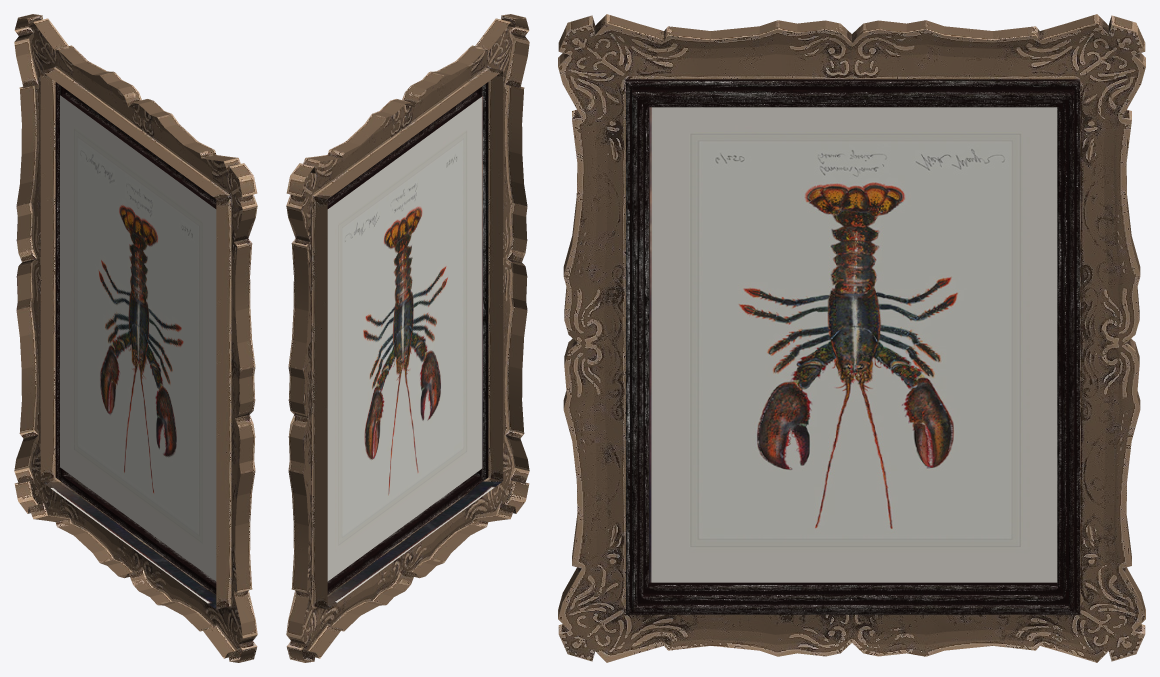
File: crab.glb
The picture shows the model from 3 angles, left to right: view 1: azimuth 30°, elevation 25°; view 2: azimuth 150°, elevation 25°; view 3: azimuth 270°, elevation 25°; orthographic projection. The views are drawn at different scales.
Parts seen in each view (by area): view 1: g; view 2: g; view 3: g.
Part boxes in pixels (bbox=[...]): g: bbox=[14, 14, 257, 662]; g: bbox=[286, 14, 529, 662]; g: bbox=[558, 14, 1145, 662].
Size of the model in its own units: 0.1163 by 2 by 1.67.
1 material, 1 textured.
